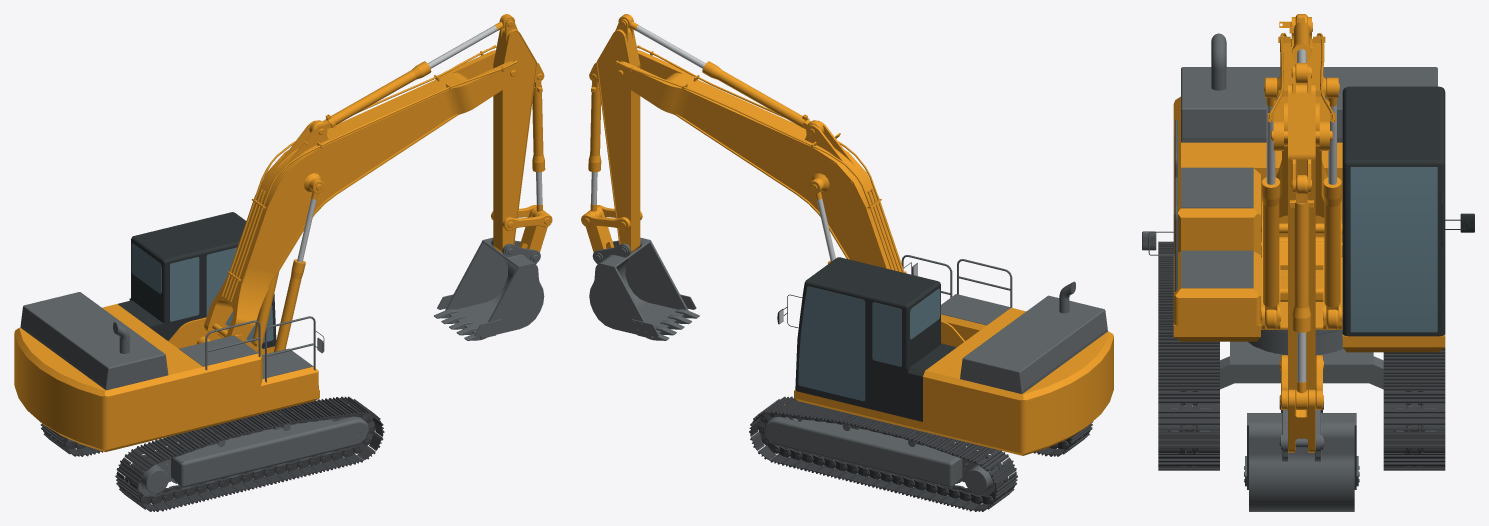
File: cet200-excavator.glb
The picture shows the model from 3 angles, left to right: view 1: azimuth 30°, elevation 25°; view 2: azimuth 150°, elevation 25°; view 3: azimuth 270°, elevation 25°; orthographic projection. The views are drawn at different scales.
Parts seen in each view (by area): view 1: paint, steel, right-track, cab, glass, chrome, left-track; view 2: paint, steel, cab, left-track, glass, chrome, right-track; view 3: paint, steel, glass, cab, right-track, left-track, chrome.
Boxes of the visible parts, left/top/right/bottom form: paint: left=14, top=14, right=552, bottom=452; steel: left=20, top=237, right=544, bottom=495; right-track: left=115, top=396, right=384, bottom=511; cab: left=118, top=212, right=276, bottom=348; glass: left=131, top=243, right=273, bottom=343; chrome: left=297, top=25, right=542, bottom=352; left-track: left=40, top=423, right=102, bottom=456; paint: left=581, top=14, right=1113, bottom=455; steel: left=589, top=237, right=1107, bottom=495; cab: left=777, top=257, right=956, bottom=421; left-track: left=749, top=396, right=1017, bottom=511; glass: left=798, top=286, right=940, bottom=401; chrome: left=591, top=25, right=917, bottom=323; right-track: left=1034, top=421, right=1093, bottom=456; paint: left=1173, top=14, right=1445, bottom=452; steel: left=1142, top=33, right=1437, bottom=511; glass: left=1350, top=167, right=1437, bottom=332; cab: left=1342, top=86, right=1474, bottom=336; right-track: left=1158, top=241, right=1219, bottom=470; left-track: left=1383, top=348, right=1445, bottom=470; chrome: left=1266, top=49, right=1336, bottom=382.
Size of the model in its own units: 8.48 by 5.88 by 3.25.
